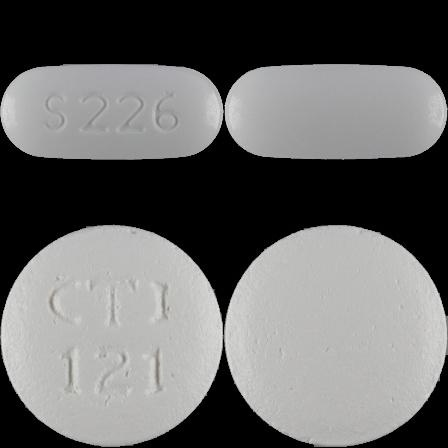10544-464: (0, 0, 224, 224)
